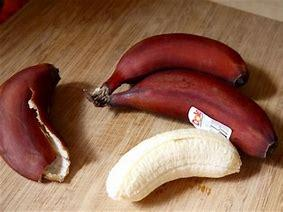banana: (80, 24, 273, 136), (0, 50, 80, 178), (96, 124, 244, 190)
